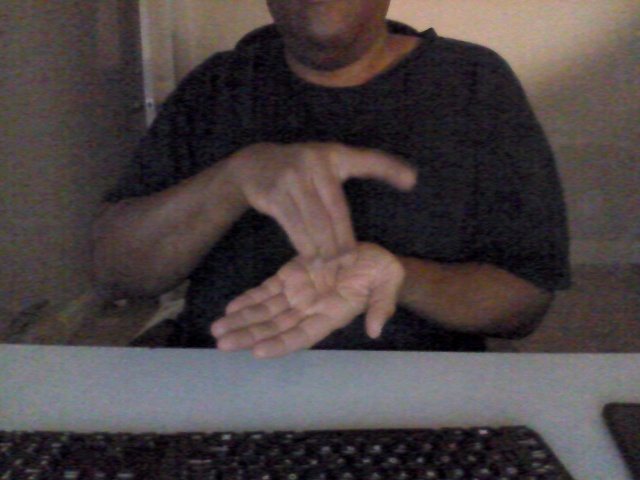doctor: (199, 124, 423, 373)
